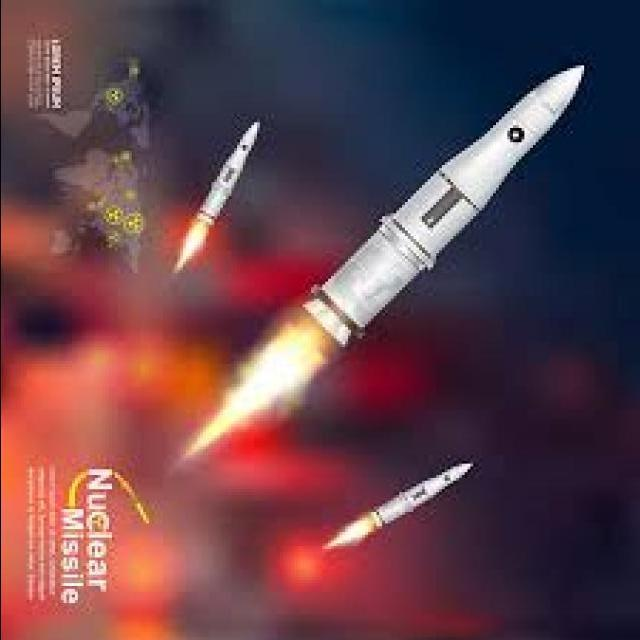Missile: (284, 52, 594, 372), (348, 438, 476, 544), (187, 113, 261, 258)
